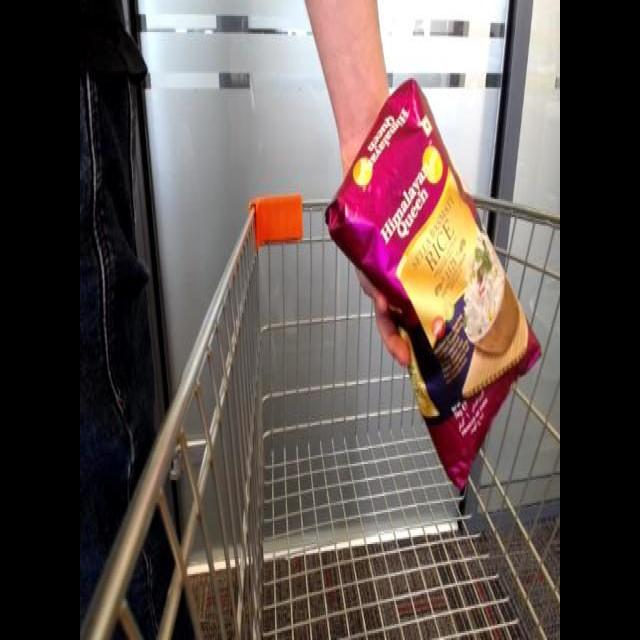Basmati Rice: (312, 80, 545, 503)
